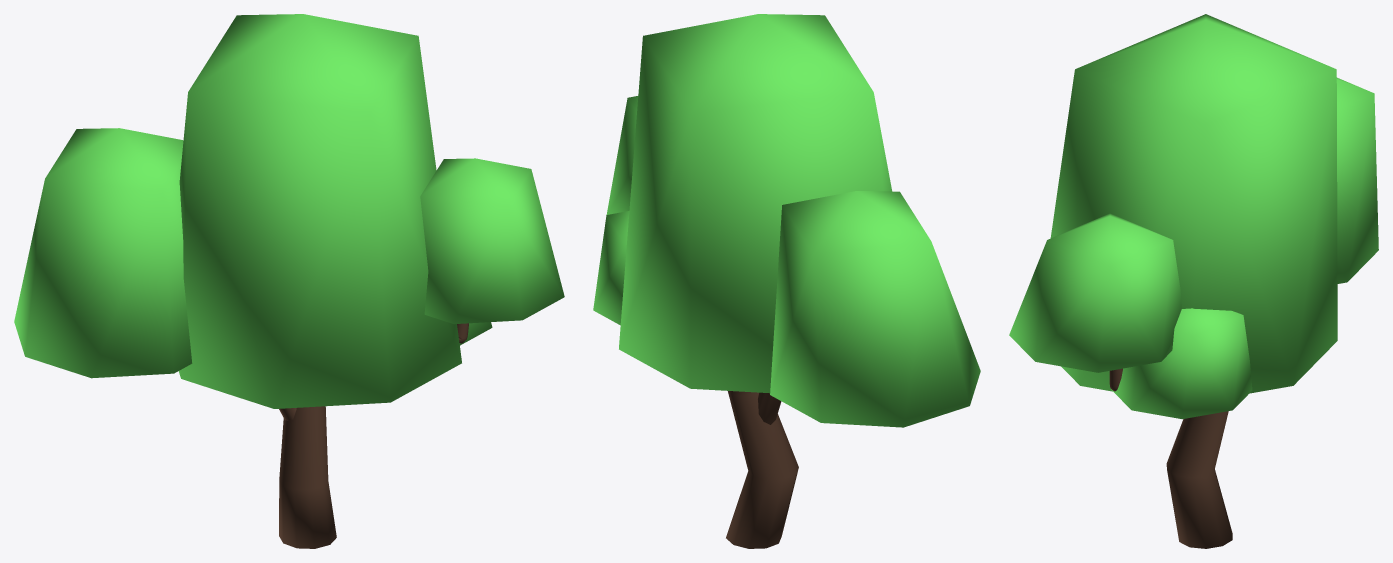
File: SwampTree_Medium2.fbx
The picture shows the model from 3 angles, left to right: view 1: azimuth 30°, elevation 25°; view 2: azimuth 150°, elevation 25°; view 3: azimuth 270°, elevation 25°; orthographic projection.
Parts seen in each view (by area): view 1: SwampTree_Medium2.001, SwampTree_Medium2; view 2: SwampTree_Medium2.001, SwampTree_Medium2; view 3: SwampTree_Medium2.001, SwampTree_Medium2.
Part boxes in pixels (x1,y1,x2,y2): SwampTree_Medium2.001: (14, 14, 564, 408); SwampTree_Medium2: (279, 323, 468, 548); SwampTree_Medium2.001: (593, 14, 980, 427); SwampTree_Medium2: (726, 391, 798, 548); SwampTree_Medium2.001: (1009, 14, 1378, 419); SwampTree_Medium2: (1109, 368, 1232, 548).
Bounding box in the file's own units: 773 × 875 × 569.
